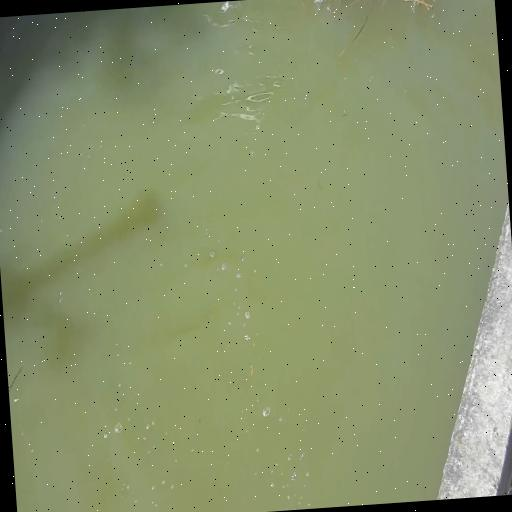twig: (308, 0, 442, 20)
